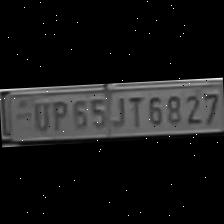2: (181, 90, 201, 126)
5: (87, 95, 109, 128)
6: (142, 93, 164, 127), (68, 96, 88, 130)
7: (199, 90, 219, 124)
8: (162, 92, 182, 126)
J: (105, 94, 125, 128)
P: (47, 97, 69, 130)
T: (124, 94, 144, 128)
U: (27, 98, 51, 132)
